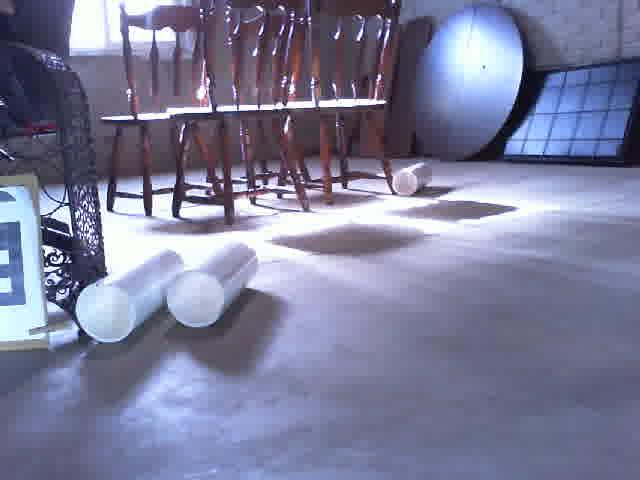coral: (77, 249, 187, 340), (167, 241, 256, 328), (392, 163, 431, 197)
